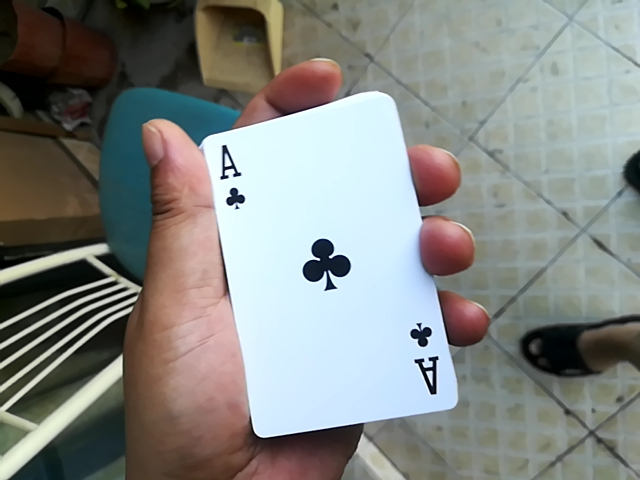mh a: (190, 89, 441, 456)
